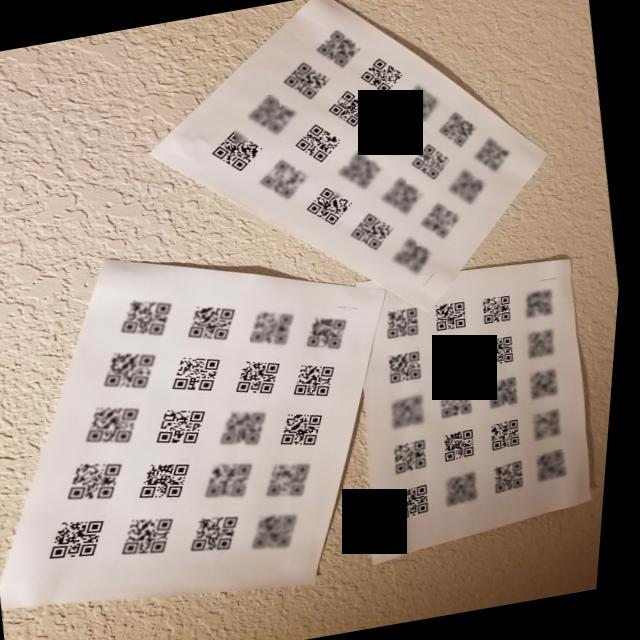QR_CODE: (108, 284, 188, 347), (46, 510, 123, 568), (83, 394, 156, 454), (66, 452, 138, 512), (182, 290, 252, 351), (101, 340, 172, 400), (138, 453, 209, 511), (230, 90, 306, 144), (123, 508, 191, 566), (154, 396, 222, 454), (168, 346, 238, 402), (262, 452, 331, 508), (205, 123, 274, 179), (188, 506, 257, 560), (254, 152, 318, 207), (248, 299, 310, 354), (233, 350, 296, 404), (329, 146, 394, 198), (274, 55, 339, 107), (305, 22, 370, 74), (251, 506, 317, 556), (278, 402, 340, 454), (219, 402, 281, 454), (304, 306, 365, 358), (290, 118, 350, 170), (413, 195, 473, 246), (320, 83, 380, 134), (205, 456, 268, 504), (304, 180, 364, 230), (345, 206, 404, 256), (389, 231, 447, 280), (365, 111, 422, 160), (378, 170, 432, 221), (356, 49, 410, 100), (443, 162, 499, 211), (292, 357, 350, 404), (402, 138, 461, 184), (471, 132, 524, 180), (394, 78, 448, 125), (474, 284, 526, 331), (437, 379, 491, 424), (433, 105, 485, 151), (382, 344, 436, 388), (381, 299, 433, 344), (396, 478, 449, 522), (391, 433, 443, 477), (440, 422, 491, 466), (447, 466, 495, 512), (390, 390, 442, 432), (430, 294, 481, 336), (535, 447, 586, 488), (533, 404, 581, 445), (481, 330, 530, 370), (524, 323, 571, 364), (435, 338, 483, 378), (485, 372, 530, 414), (523, 282, 568, 324), (493, 457, 539, 498), (487, 415, 532, 454), (529, 365, 572, 403)
